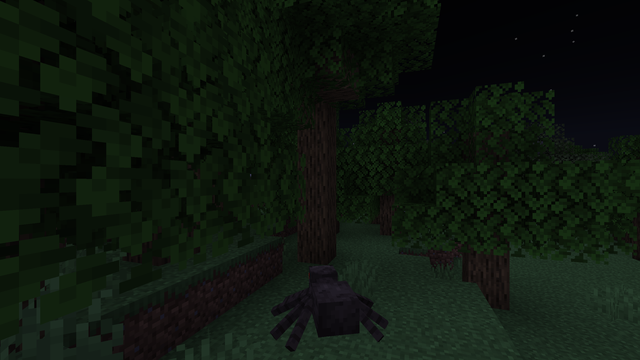araignees: (274, 258, 370, 354)
